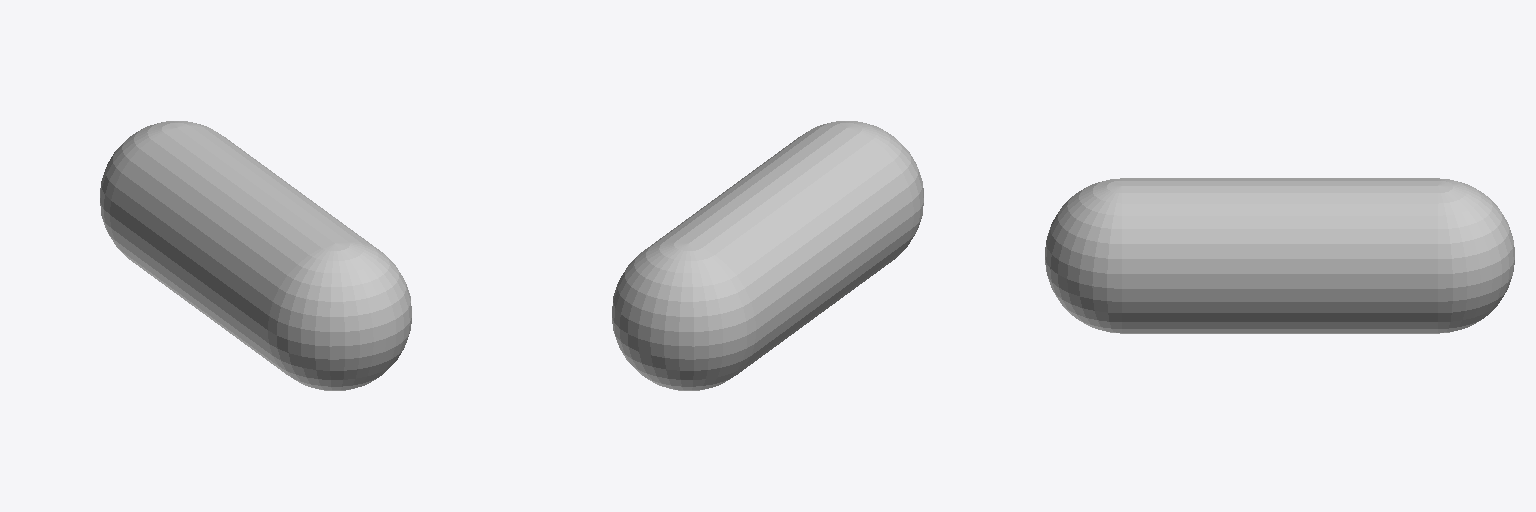
The model's file is pill.obj.
The picture shows the model from 3 angles: view 1: azimuth 30°, elevation 25°; view 2: azimuth 150°, elevation 25°; view 3: azimuth 270°, elevation 25°; orthographic projection.
Parts seen in each view (by area): view 1: Sphere; view 2: Sphere; view 3: Sphere.
Part boxes in pixels (bbox=[...]): Sphere: bbox=[100, 121, 411, 390]; Sphere: bbox=[612, 121, 923, 390]; Sphere: bbox=[1045, 178, 1514, 333].
Bounding box in the file's own units: 4 × 4 × 12.13.